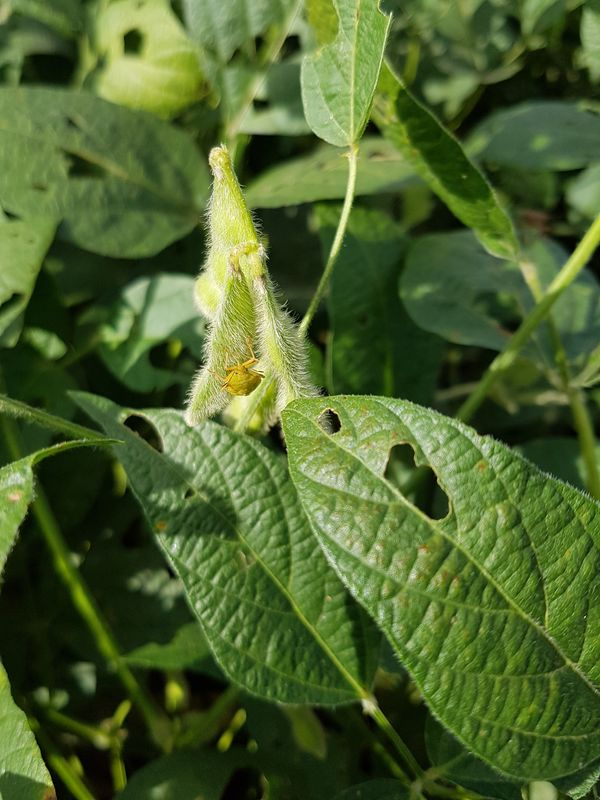Euschistus_heros_ninfa: (202, 333, 277, 409)
